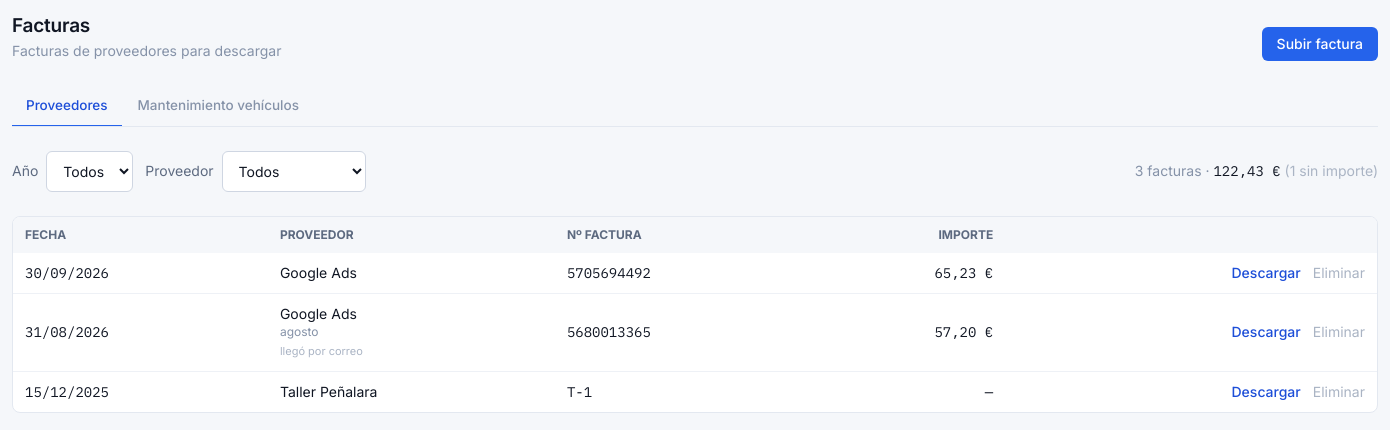
it: Facturas › lista las facturas con su total y filtra por año y proveedor
Expected: the text "5705694492" is shown, [555, 253, 810, 293]
Expected: the text "30/09/2026" is shown, [13, 253, 268, 293]
Select "2026" in the dropdown labelled "Año" at (90, 171), box [46, 151, 133, 192]
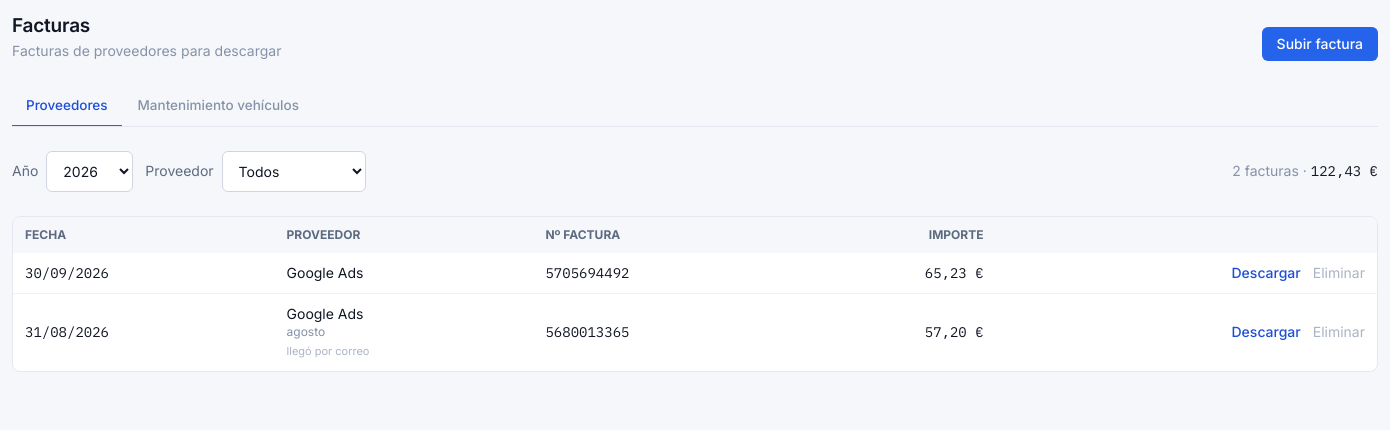
Expected: the text "122,43 €" is shown, [1311, 162, 1378, 180]
Result: the text "T-1" is gone
Result: the text "2 facturas · 122,43 €" is shown at [1232, 161, 1378, 181]
Select "Todos" in the dropdown labelled "Año" at (90, 171), box [46, 151, 133, 192]
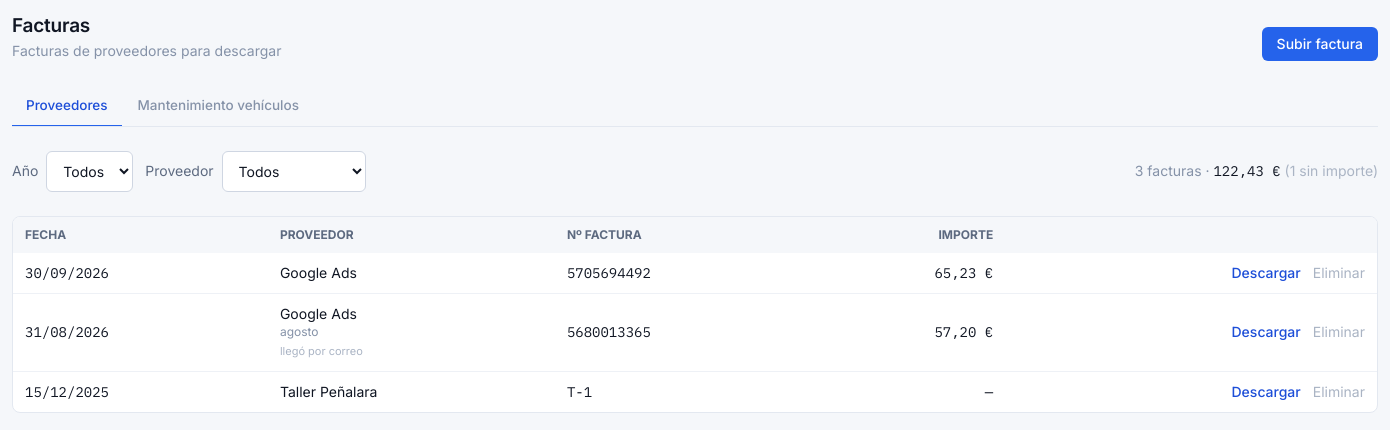
Select "Taller Peñalara" in the dropdown labelled "Proveedor" at (294, 171), box [222, 151, 366, 192]
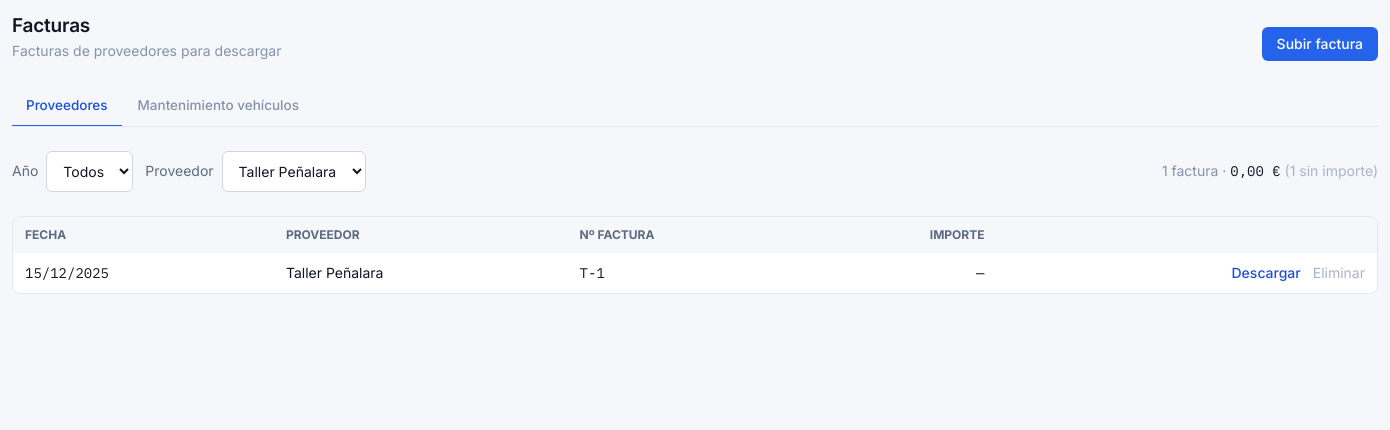
Result: the text "T-1" is shown at [568, 253, 806, 293]
Result: the text "5705694492" is gone
